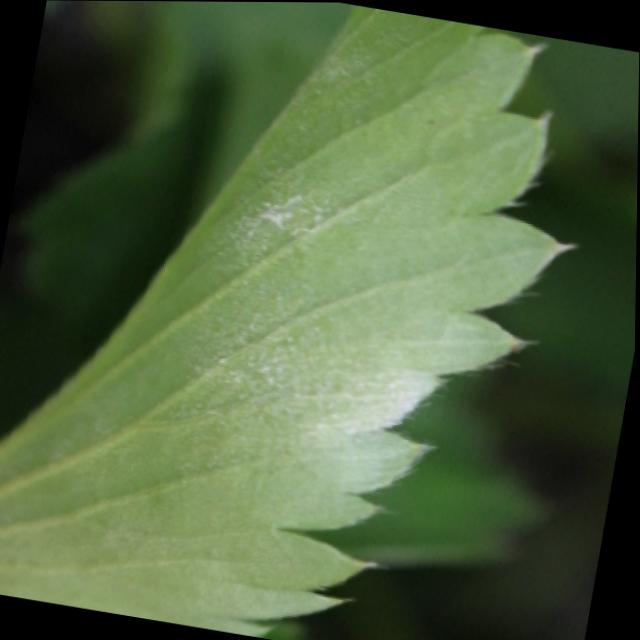Powdery Mildew Leaf: (0, 3, 585, 638)
